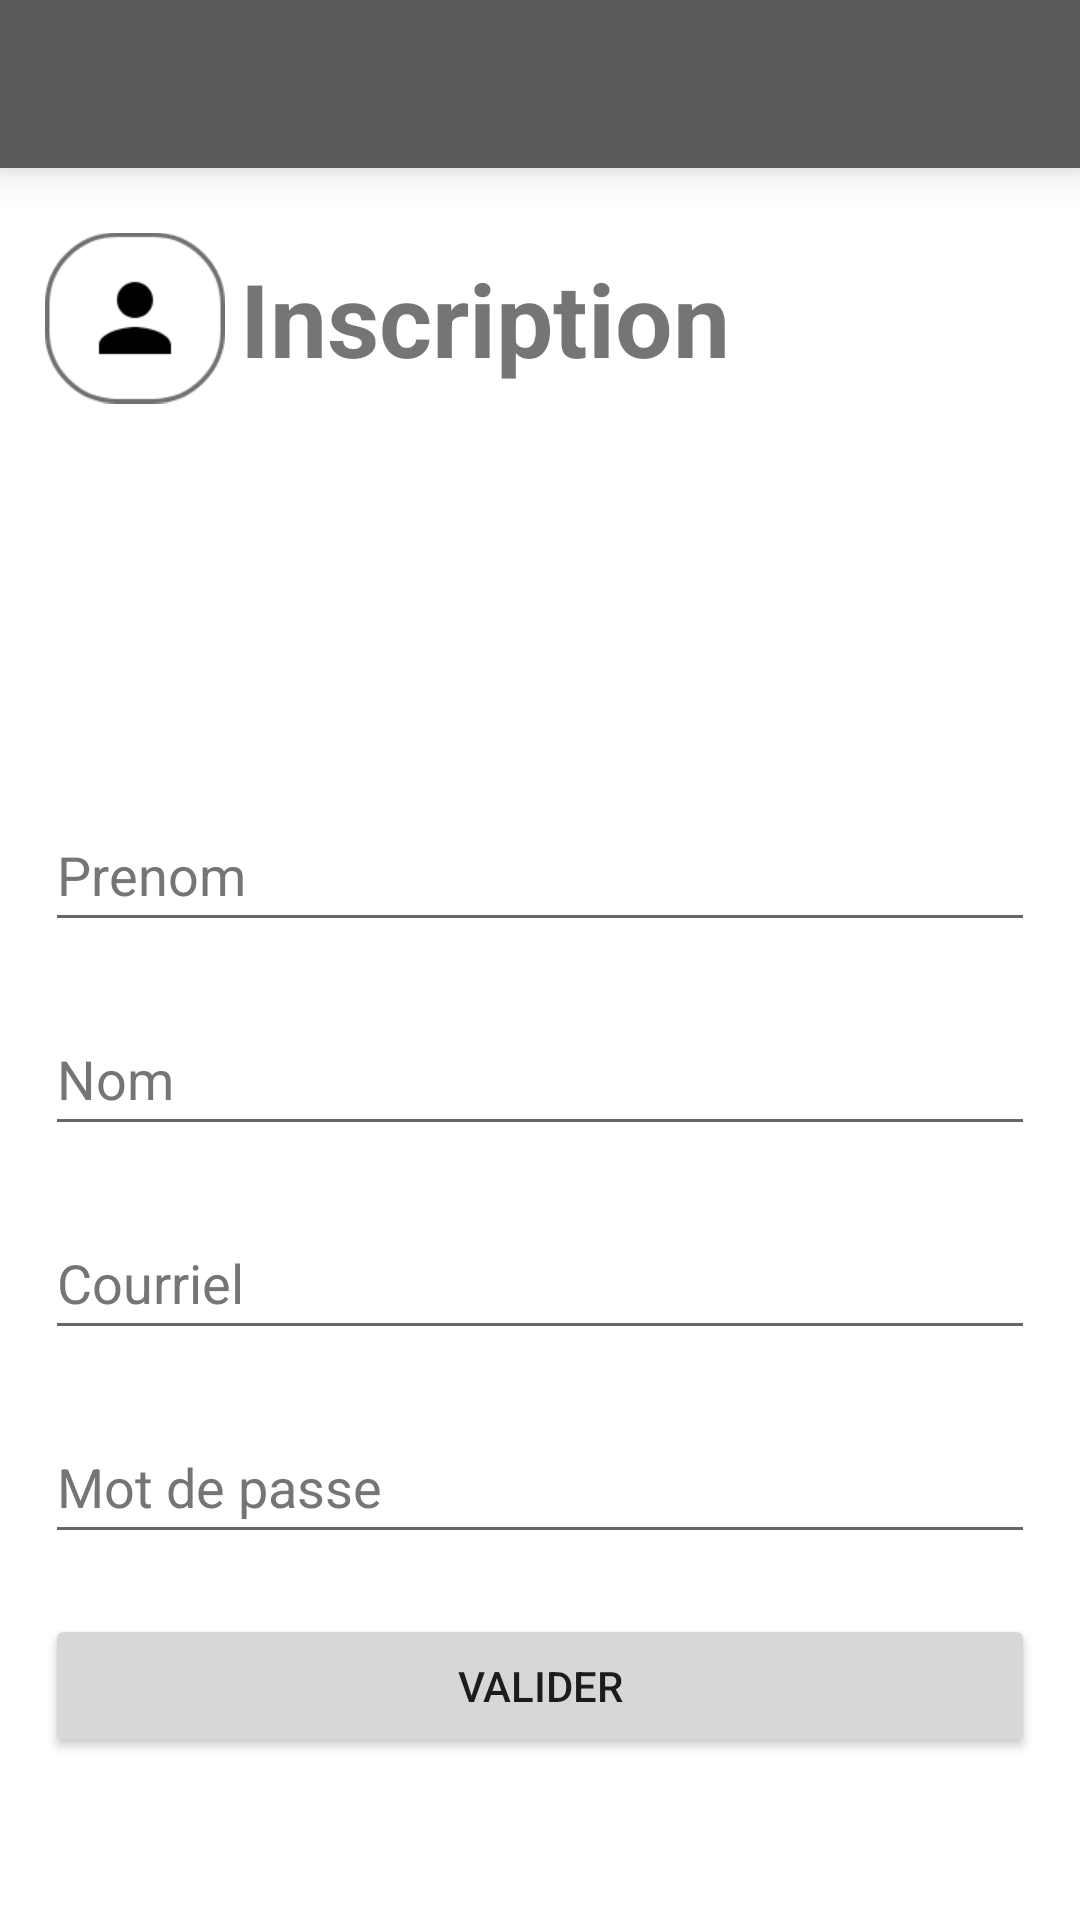

Screen size 1080px x 1920px. Icon name, then its center in pixels as point (x, y):
profil: point (135, 318)
